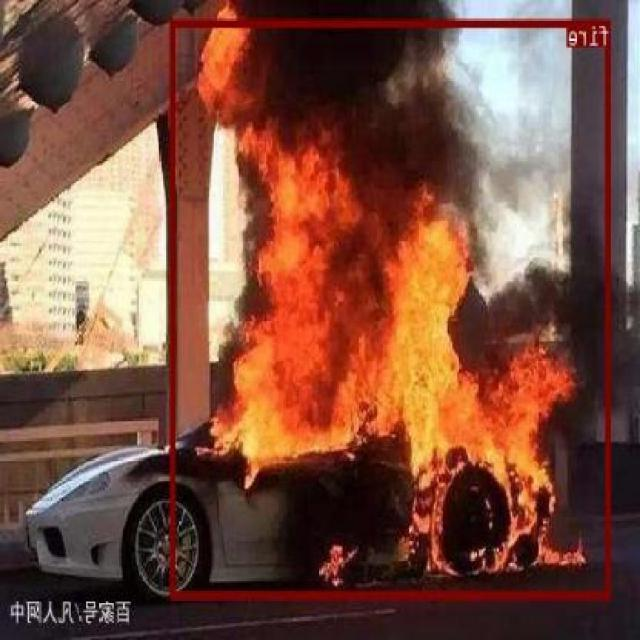Fire: (172, 18, 612, 598)
